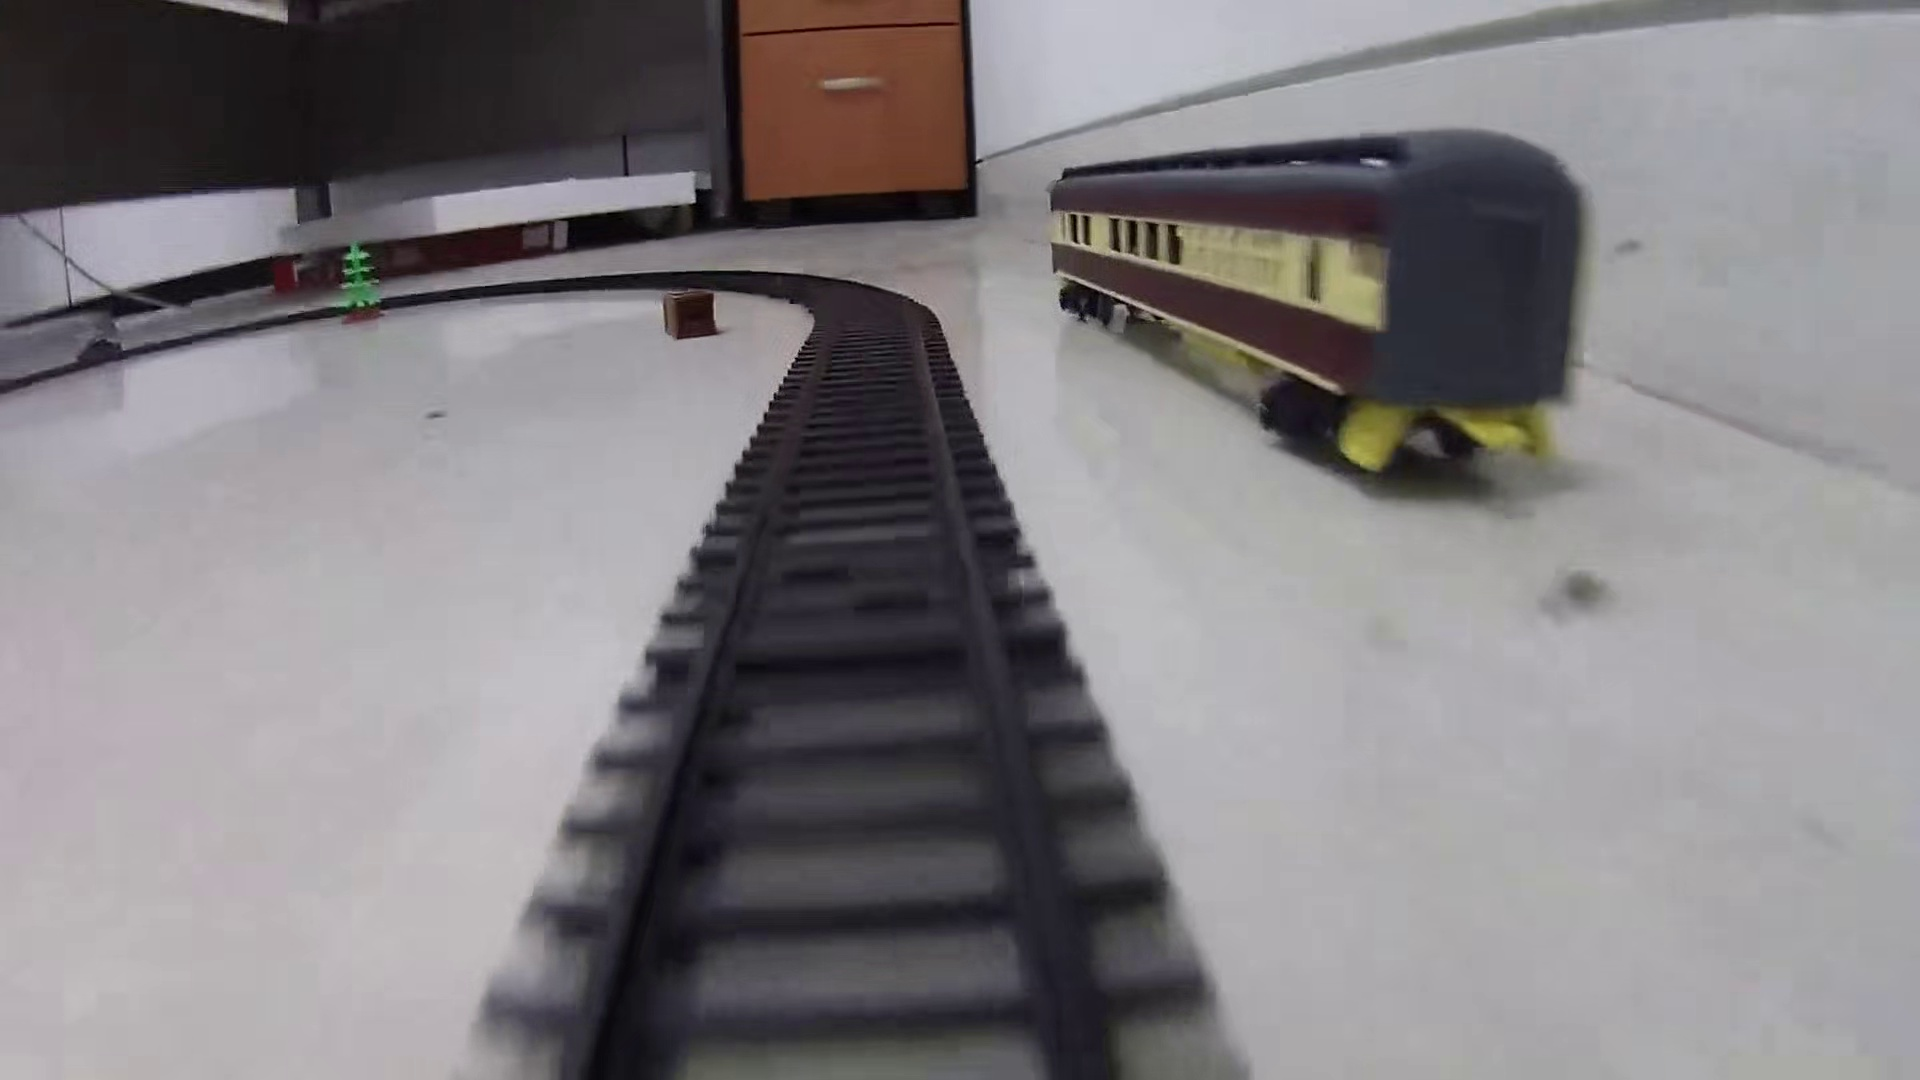box: (661, 287, 720, 341)
tree: (339, 242, 386, 324)
